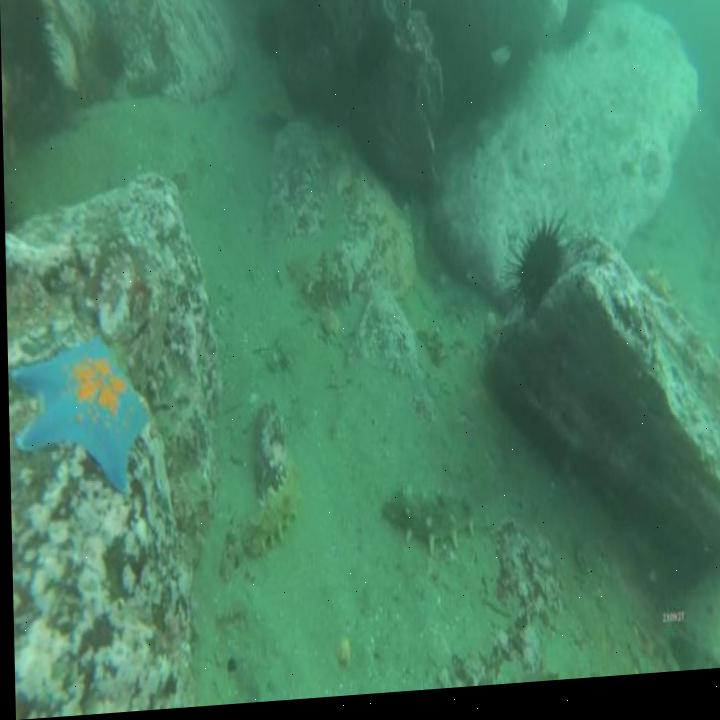echinus: (516, 225, 569, 324)
holothurian: (378, 476, 479, 569), (246, 463, 301, 562)
starfish: (6, 330, 148, 503)
